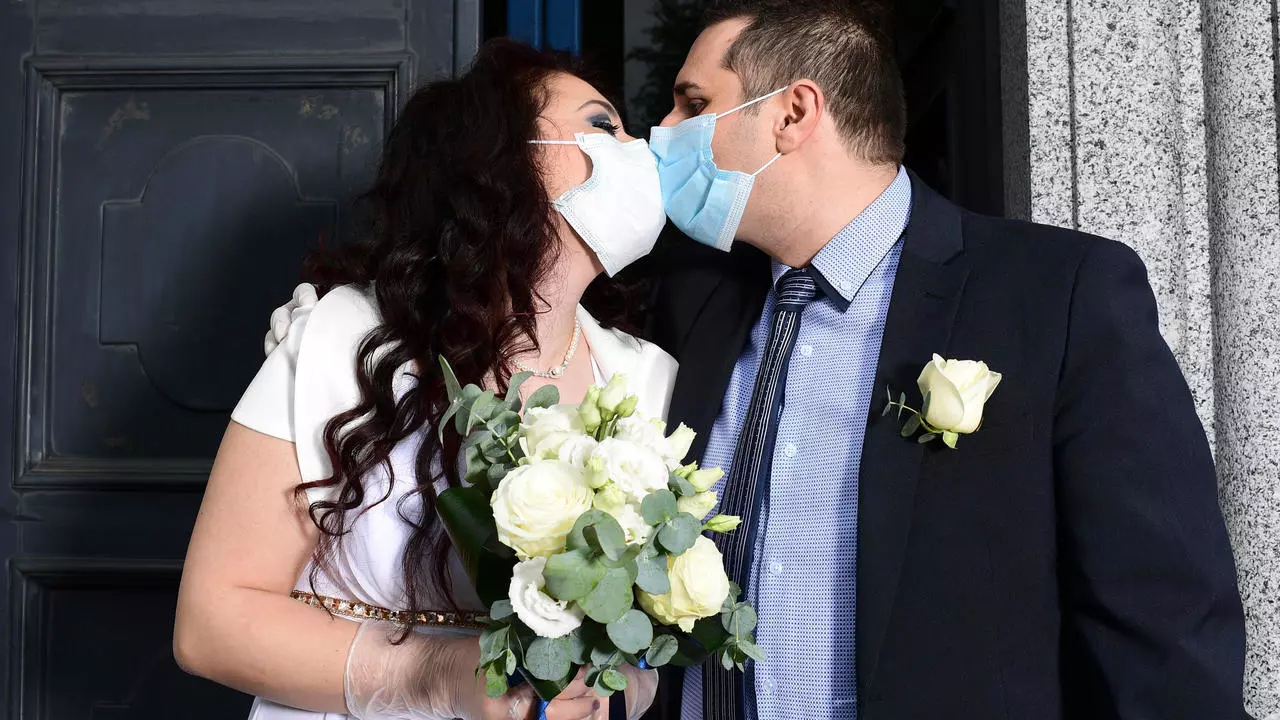with_mask: (655, 66, 792, 257), (539, 94, 649, 278)
